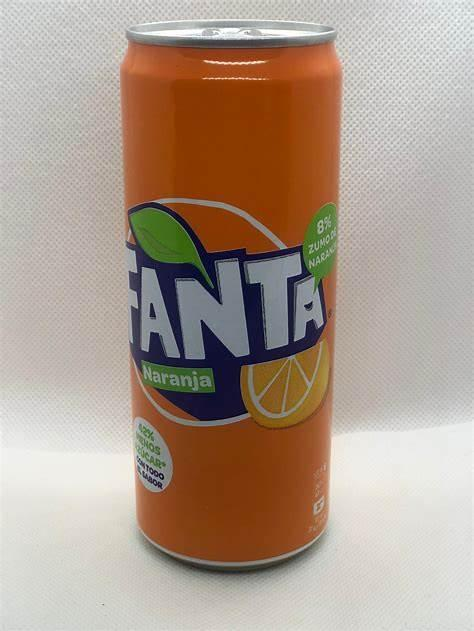metal: (121, 20, 342, 568)
